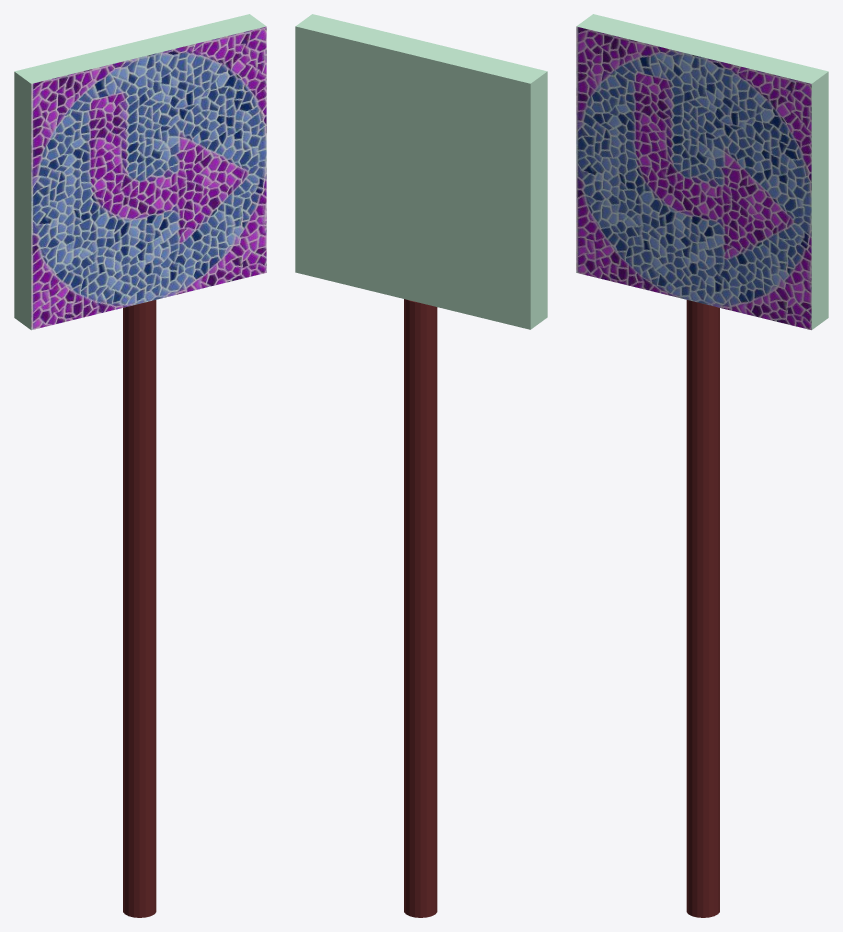
Rendered from nakaz.dae.
3 views of the same model, side by side, from view 1: azimuth 30°, elevation 25°; view 2: azimuth 150°, elevation 25°; view 3: azimuth 330°, elevation 25° (orthographic).
Visible parts, largest first — view 1: BSD_Material_d_nakaz__14, CSD_Material_d_nakaz__37, BSD_Material_d_nakaz__15; view 2: BSD_Material_d_nakaz__15, CSD_Material_d_nakaz__37; view 3: BSD_Material_d_nakaz__14, CSD_Material_d_nakaz__37, BSD_Material_d_nakaz__15.
Boxes of the visible parts, box(x1,y1,x2,y2) form: BSD_Material_d_nakaz__14: box(31, 26, 266, 329); CSD_Material_d_nakaz__37: box(123, 300, 156, 917); BSD_Material_d_nakaz__15: box(14, 14, 266, 329); BSD_Material_d_nakaz__15: box(295, 14, 547, 329); CSD_Material_d_nakaz__37: box(404, 299, 437, 917); BSD_Material_d_nakaz__14: box(576, 26, 811, 329); CSD_Material_d_nakaz__37: box(686, 300, 719, 917); BSD_Material_d_nakaz__15: box(576, 14, 828, 329).
Bounding box in the file's own units: 1.57 × 0.2043 × 5.51.
